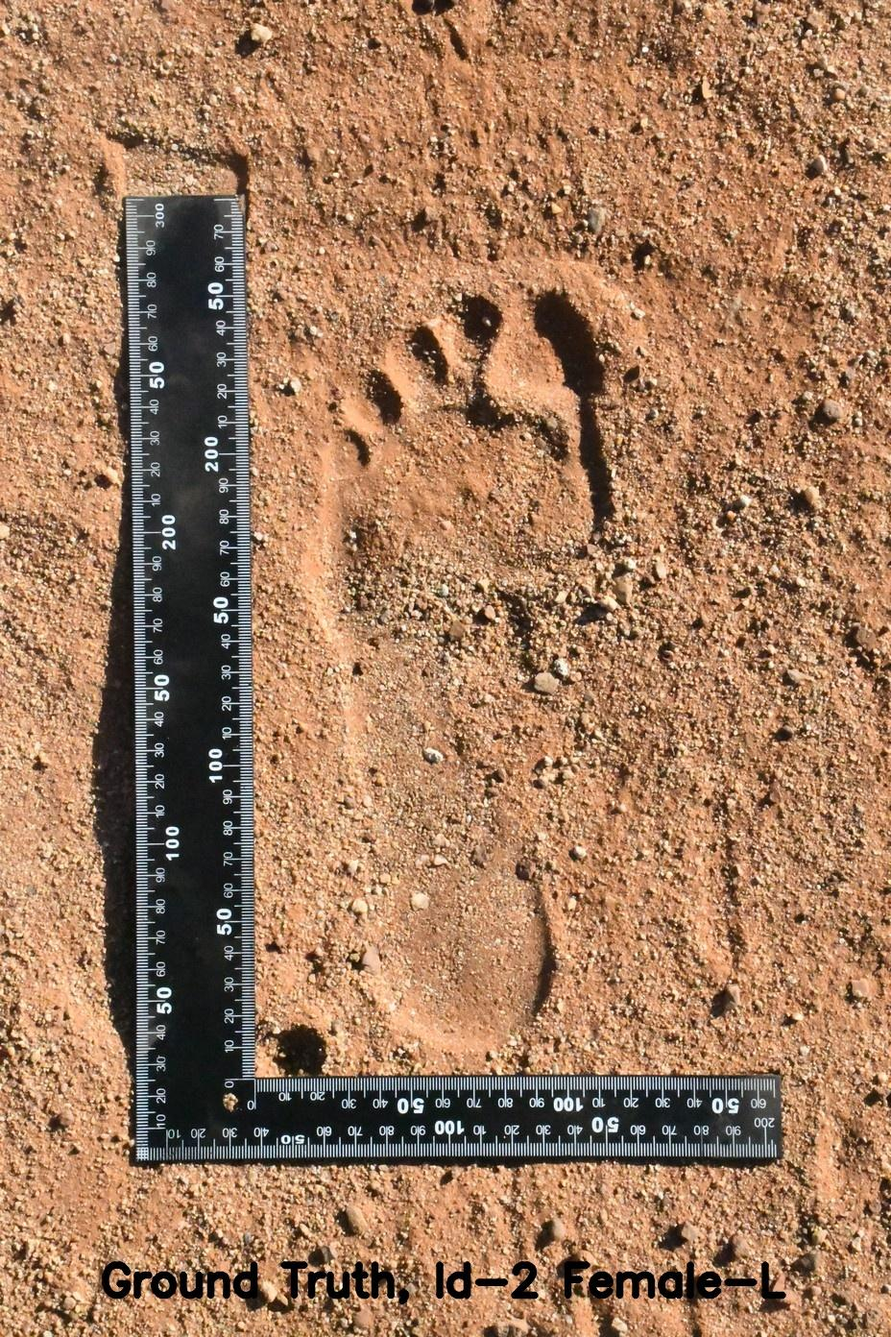human_foot_print: (279, 228, 698, 1072)
